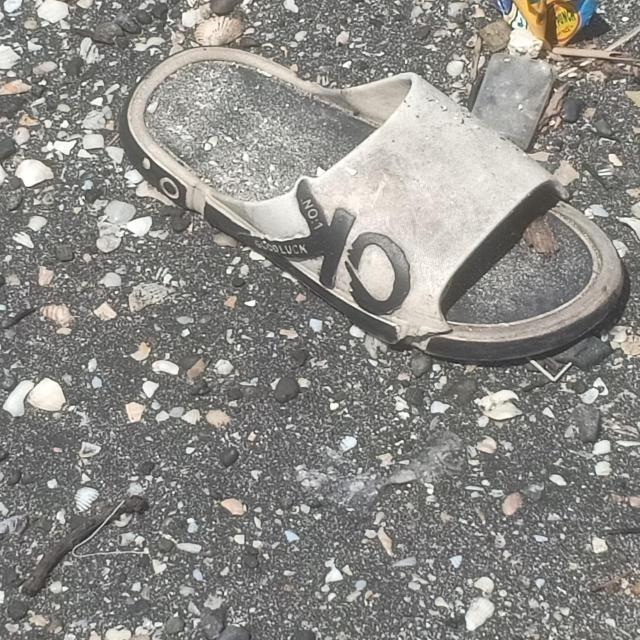rubber_waste: (124, 47, 630, 368)
